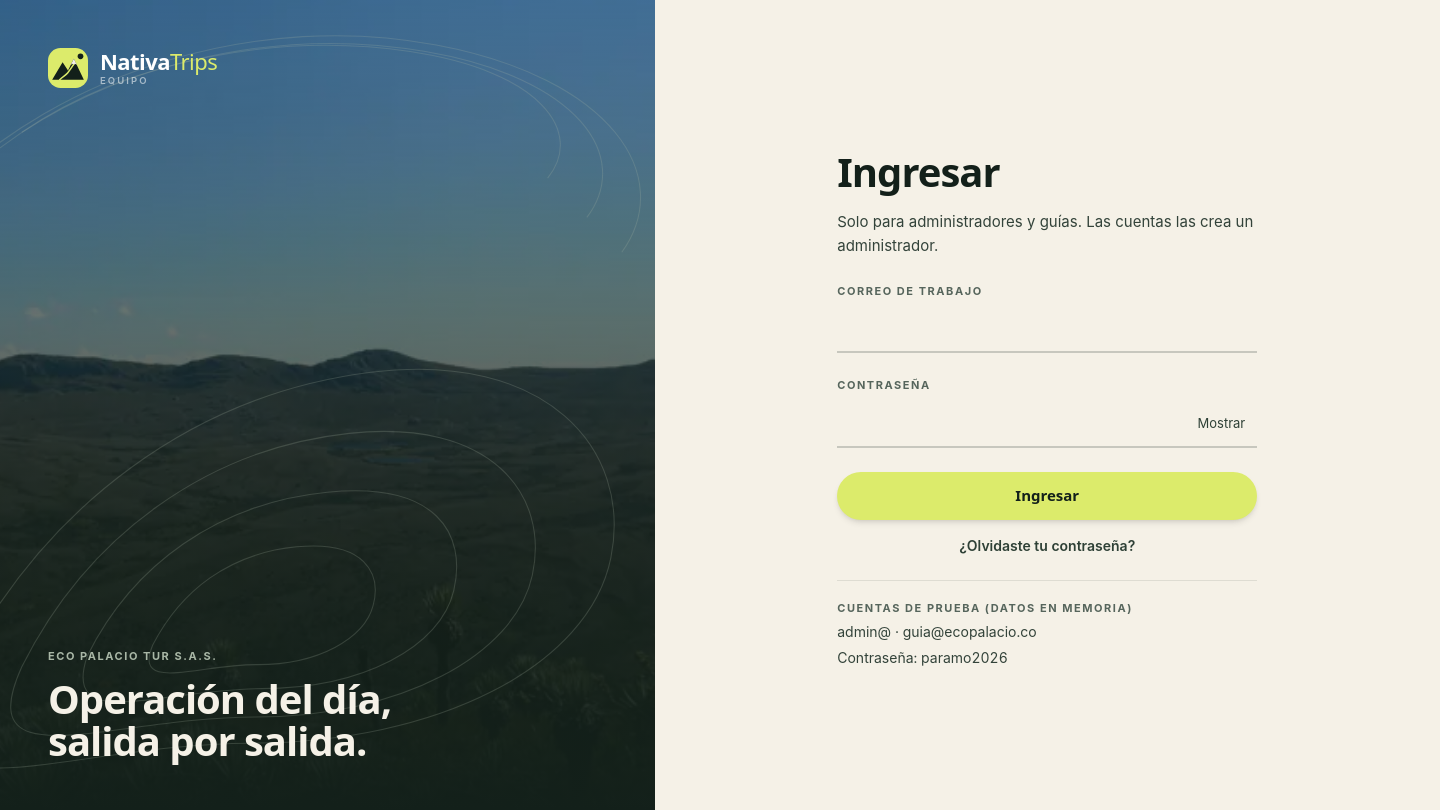
Test: acceso del equipo y paneles por rol › muestra el error con credenciales incorrectas
The width and height of the screenshot is (1440, 810).
Type "admin@ecopalacio.co" into the field labelled "Correo de trabajo".
click(1047, 329); type("admin@ecopalacio.co")  # box x1=837 y1=305 x2=1257 y2=353
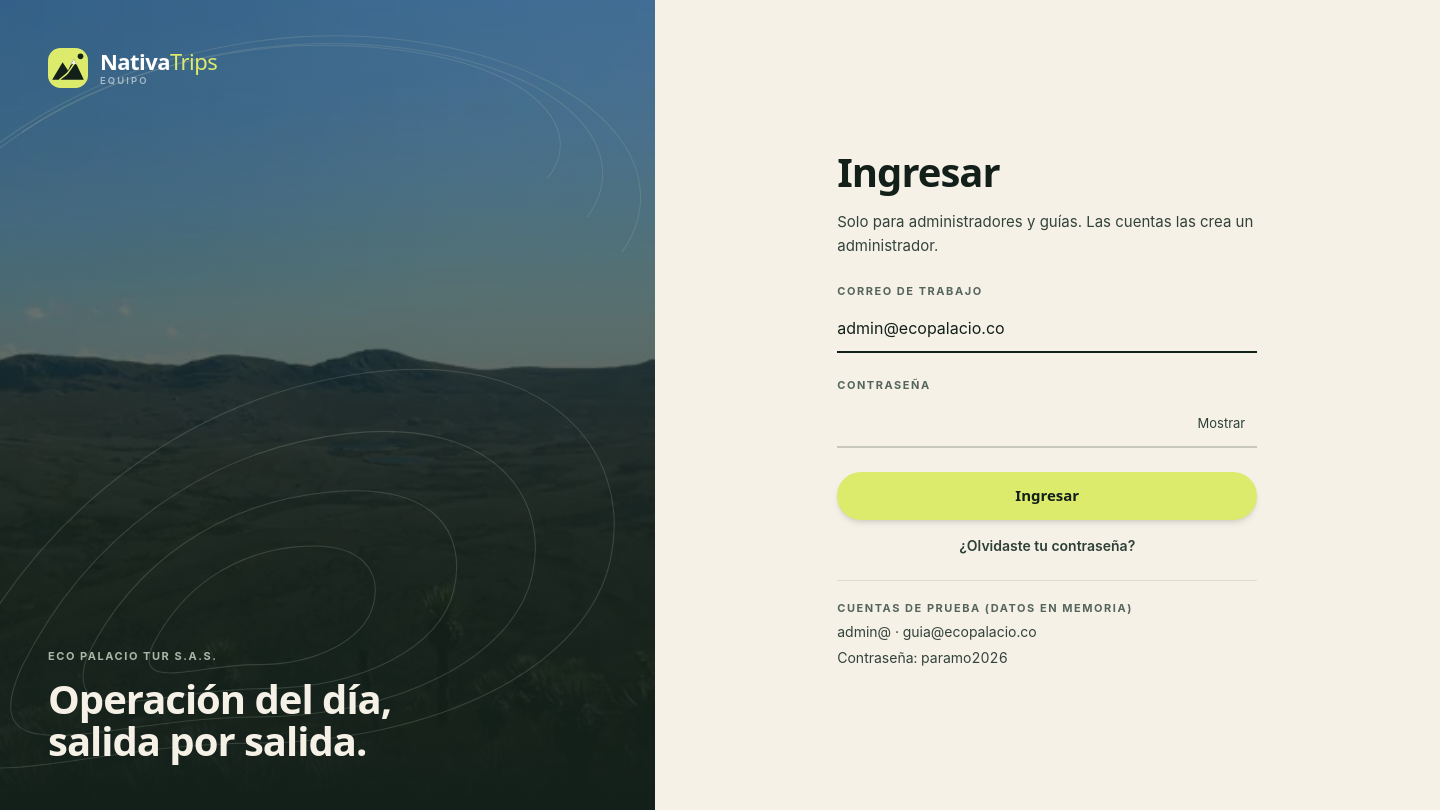
Type "equivocada" into the password field labelled "Contraseña".
click(1047, 424); type("equivocada")  # box x1=837 y1=400 x2=1257 y2=448
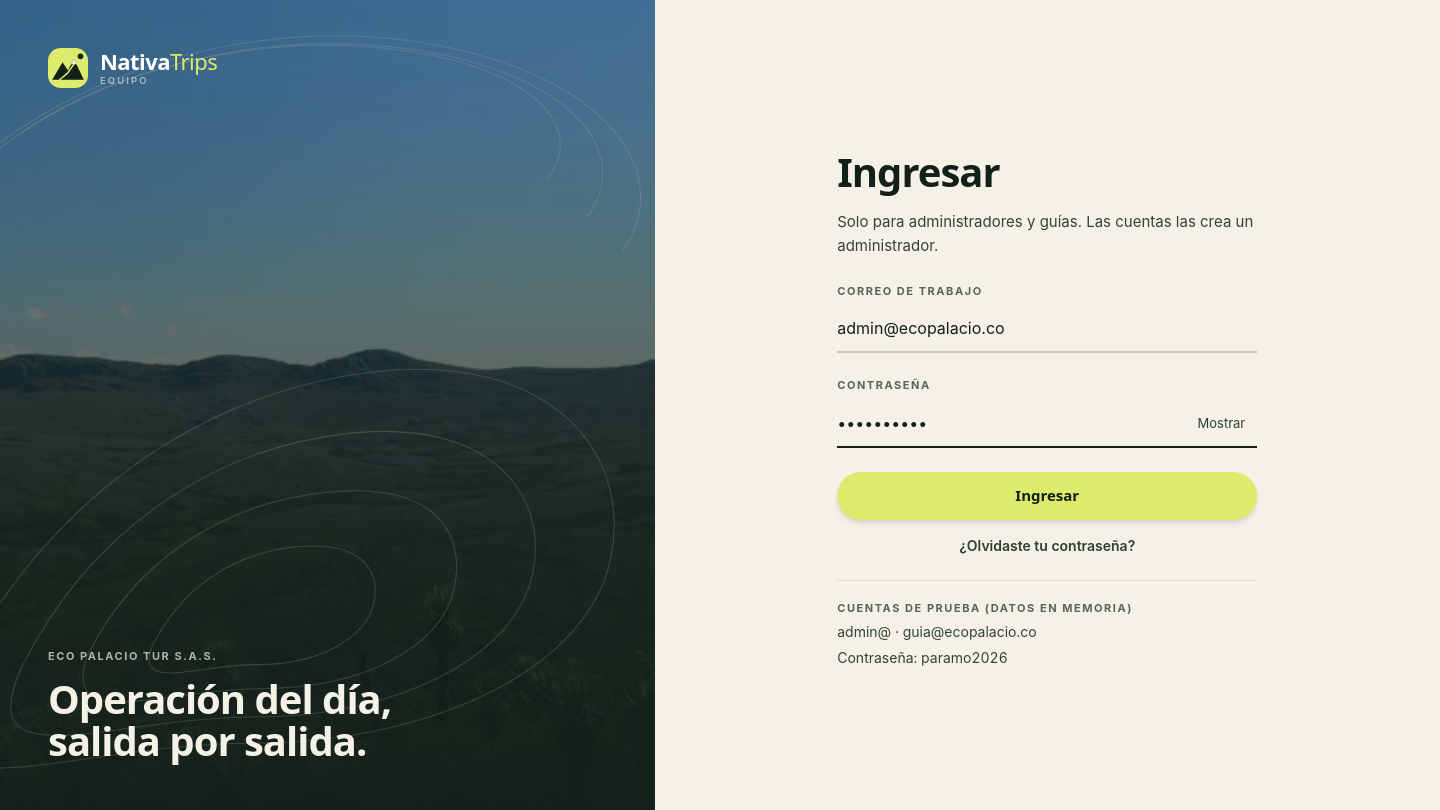
Click the button "Ingresar".
click(1047, 496)  # box x1=837 y1=472 x2=1257 y2=520
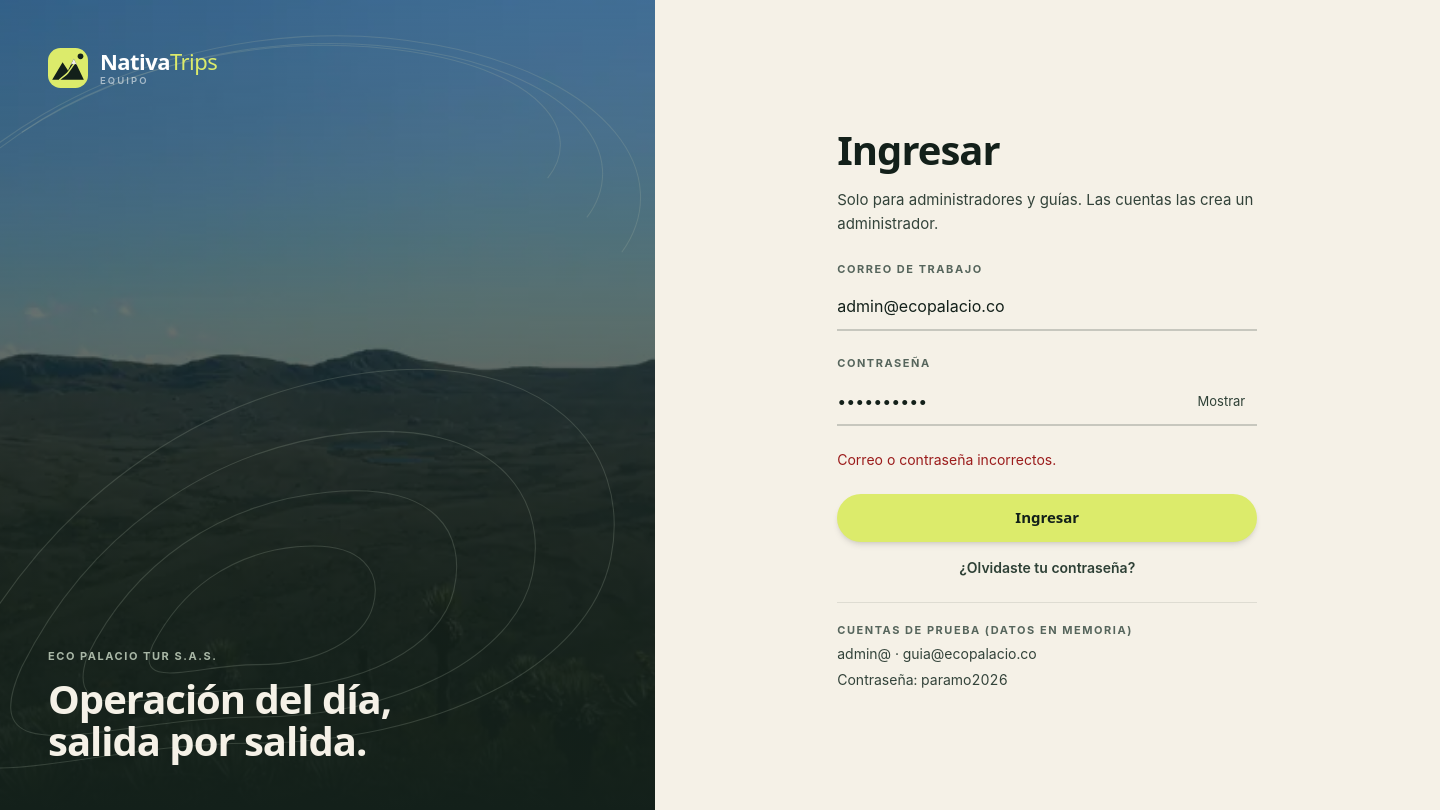
Result: the message reads "Correo o contraseña incorrectos." at x1=837 y1=450 x2=1056 y2=468
